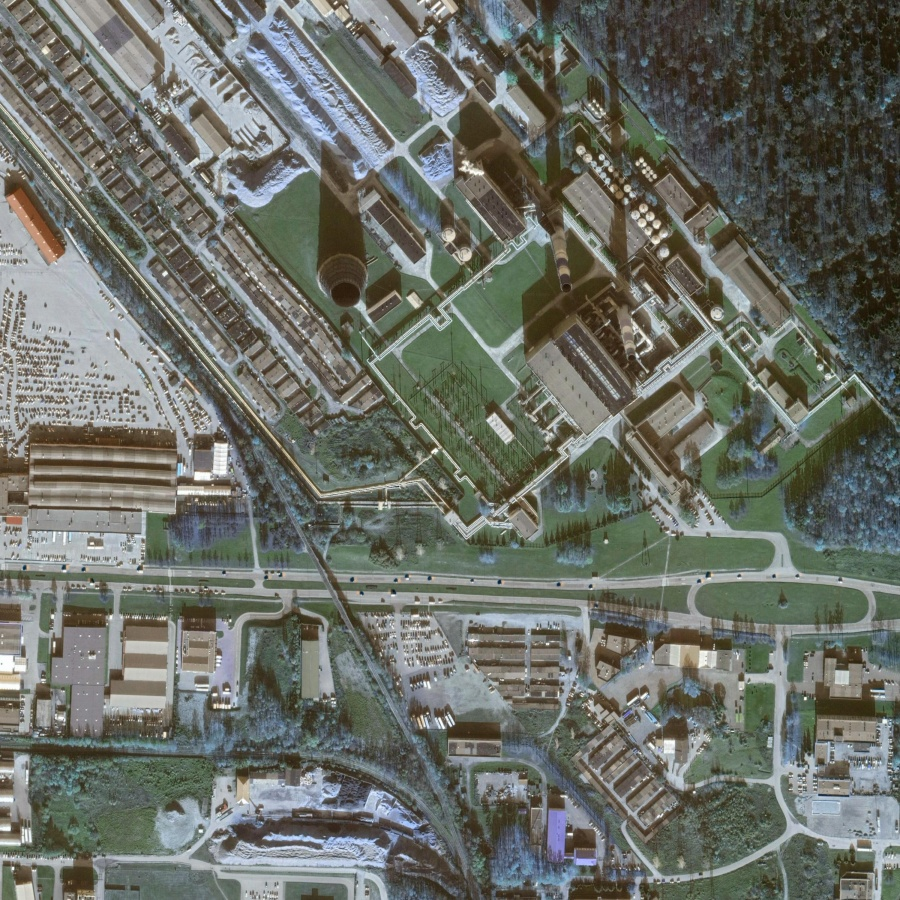PowerPlant: (292, 31, 828, 478)
